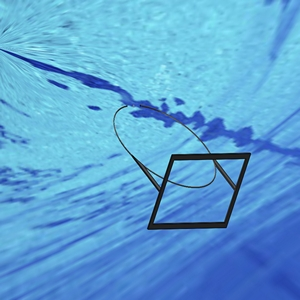circle: (111, 102, 250, 230)
